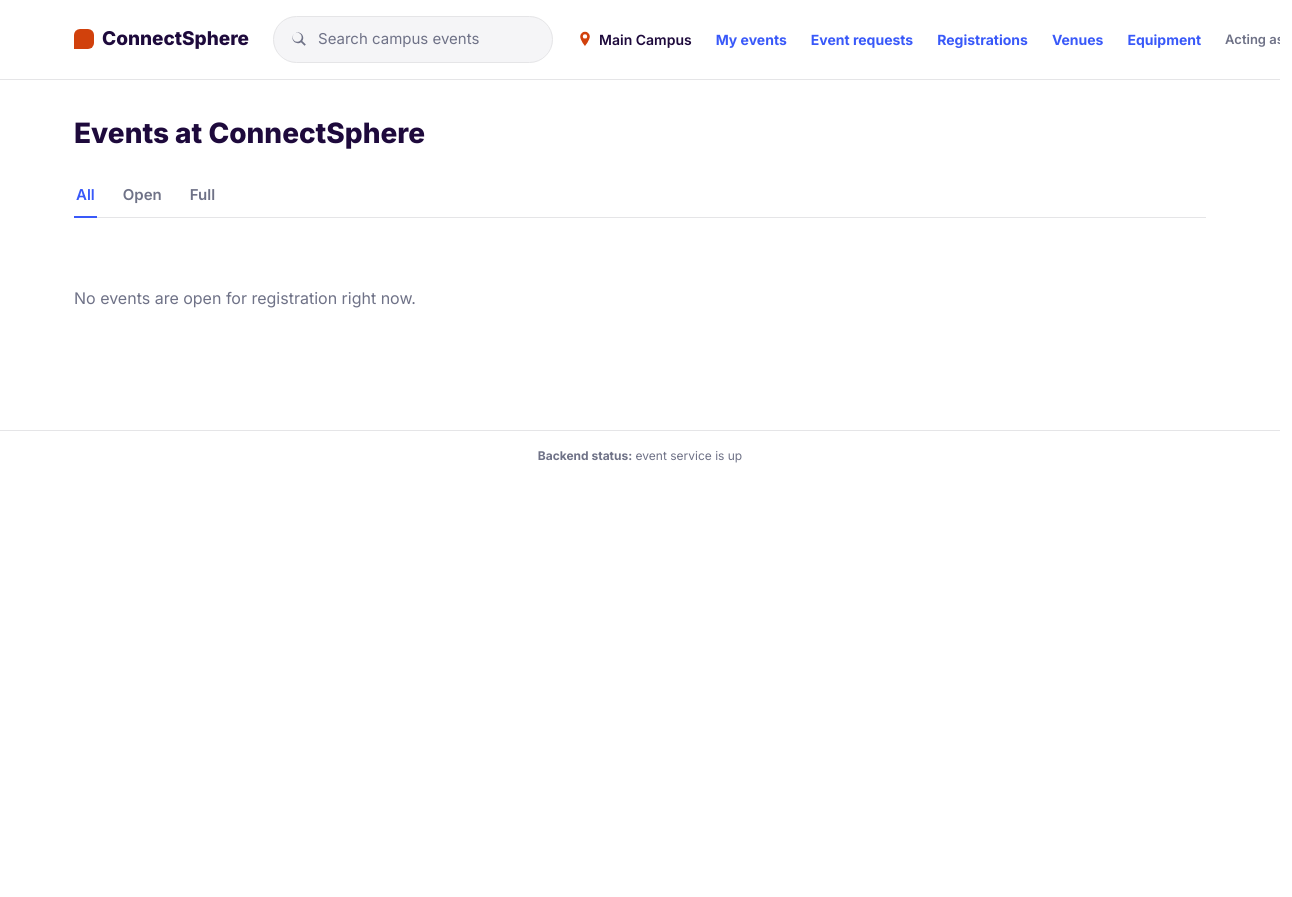
Test: organiser: event requests (US1) › adds and removes preferred dates as chips
The image size is (1292, 897).
Click the button "Event requests": coordinates (862, 39) [811,29,913,50]
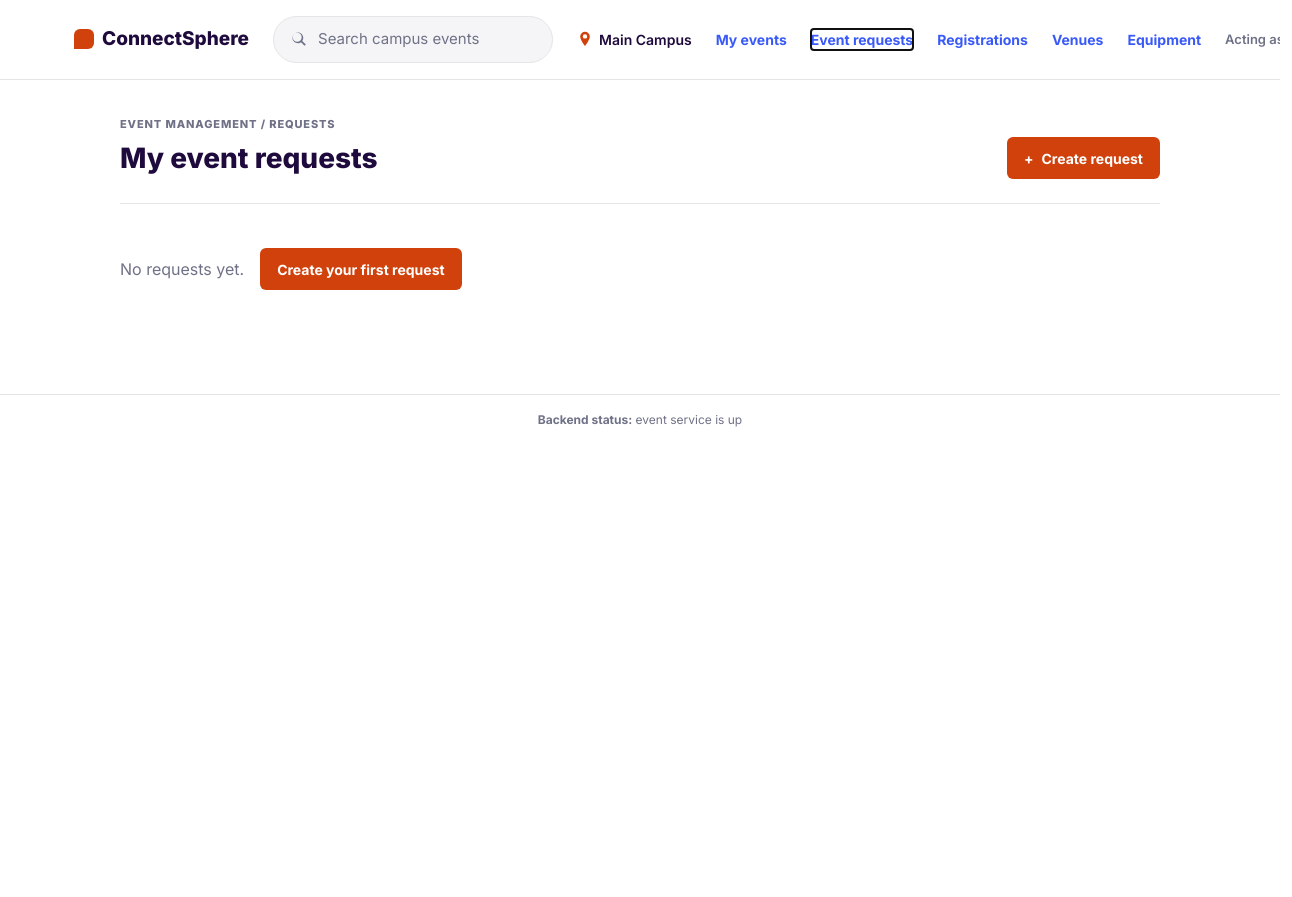
Click the button "+ Create request": coordinates (1084, 158) [1007,137,1160,179]
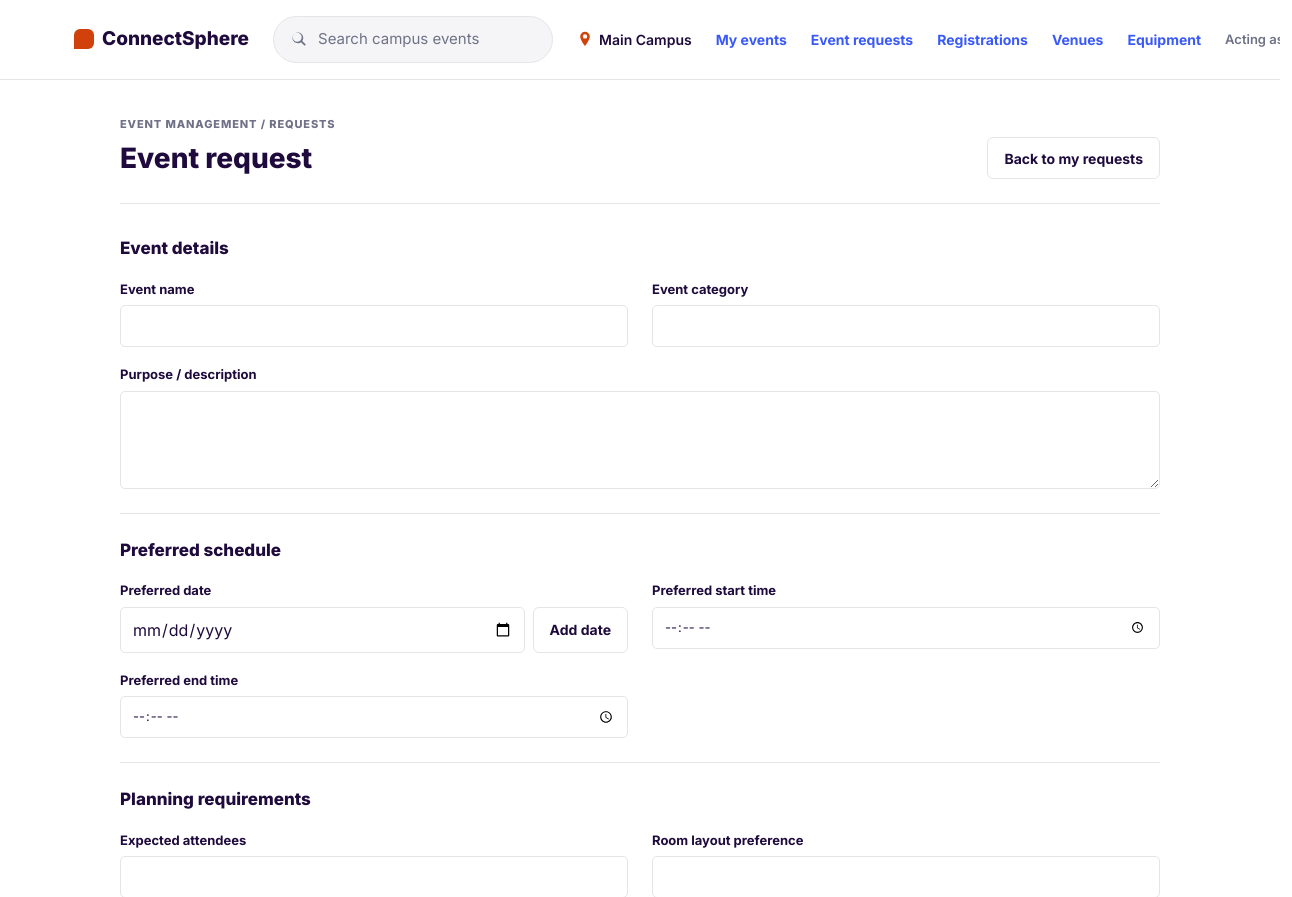
In the date field labelled "Preferred date": coordinates (322, 630) [120,606,525,652], type "2026-11-20"
Click the button "Add date": coordinates (580, 630) [533,606,628,652]
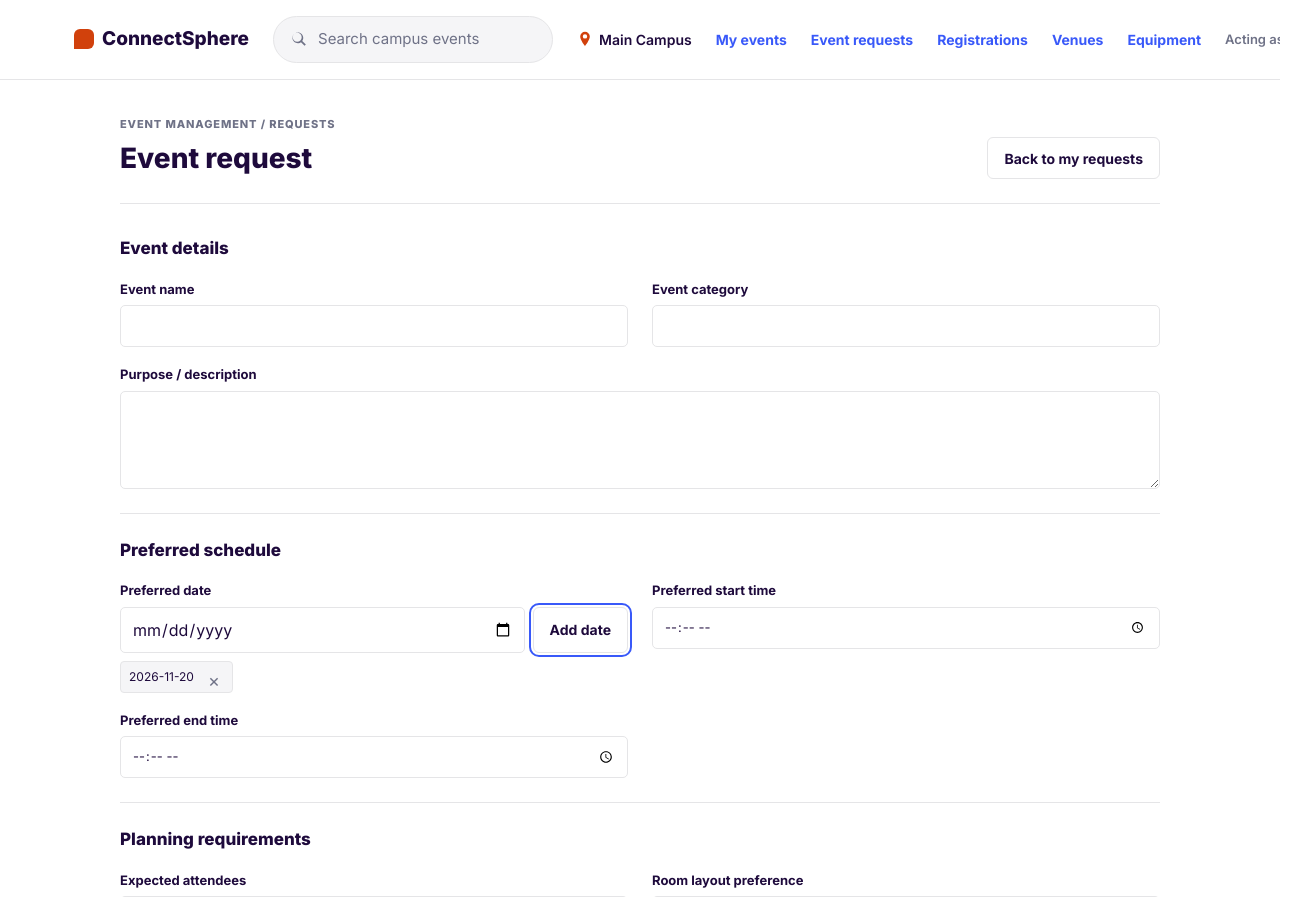
In the date field labelled "Preferred date": coordinates (322, 630) [120,606,525,652], type "2026-11-21"
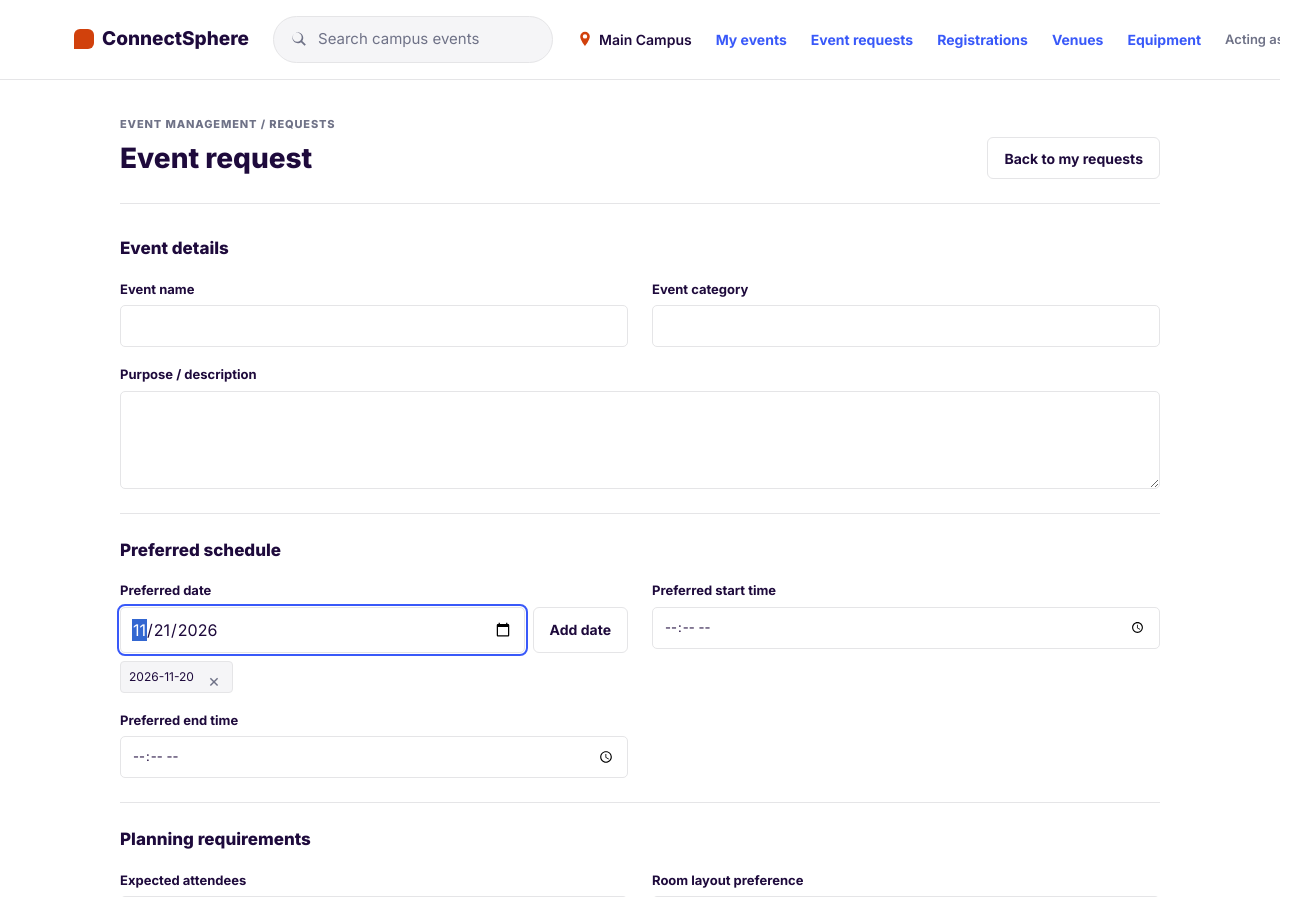
Click the button "Add date": coordinates (580, 630) [533,606,628,652]
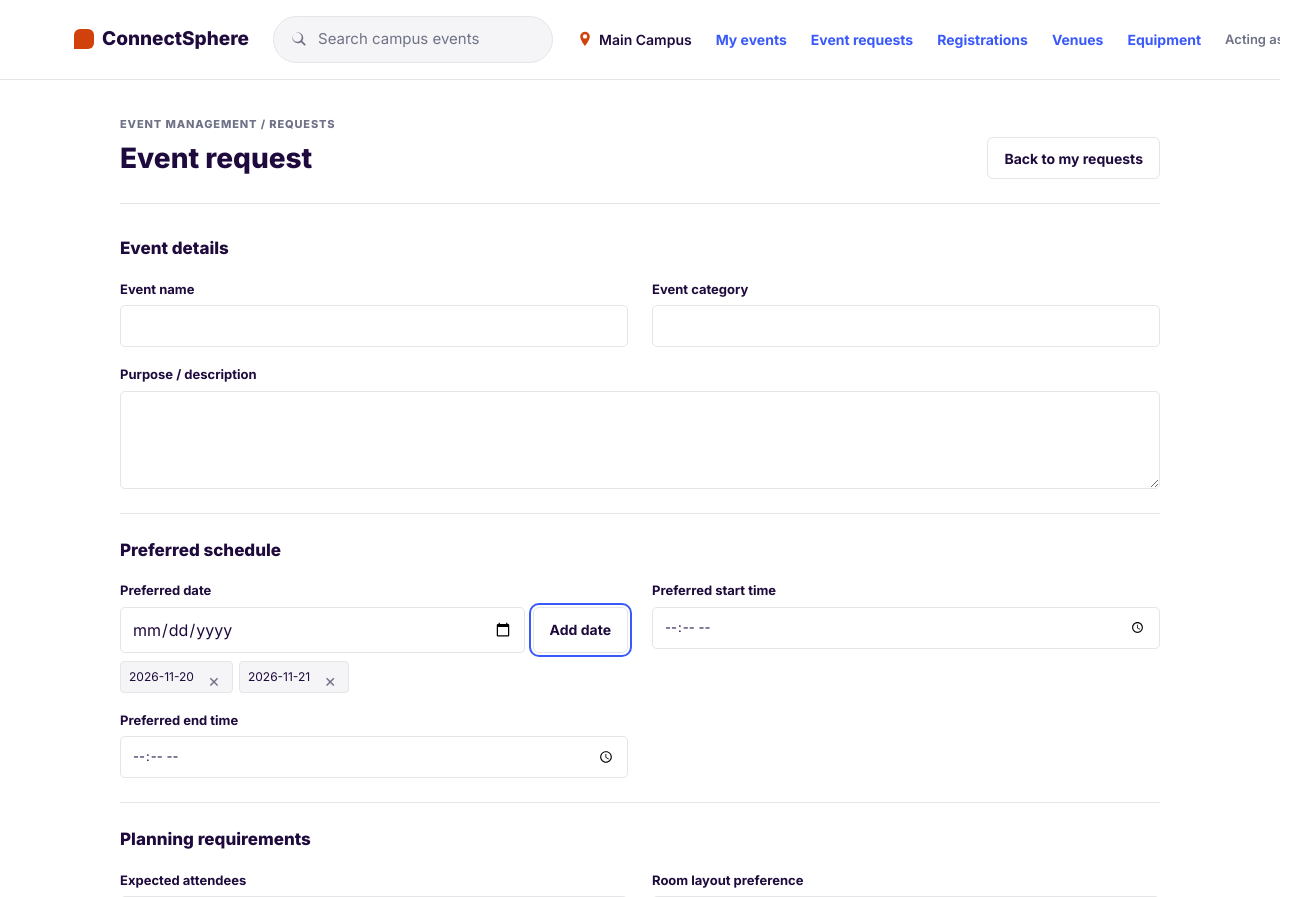
Click the button named "Remove 2026-11-20": coordinates (213, 676) [202,666,224,688]
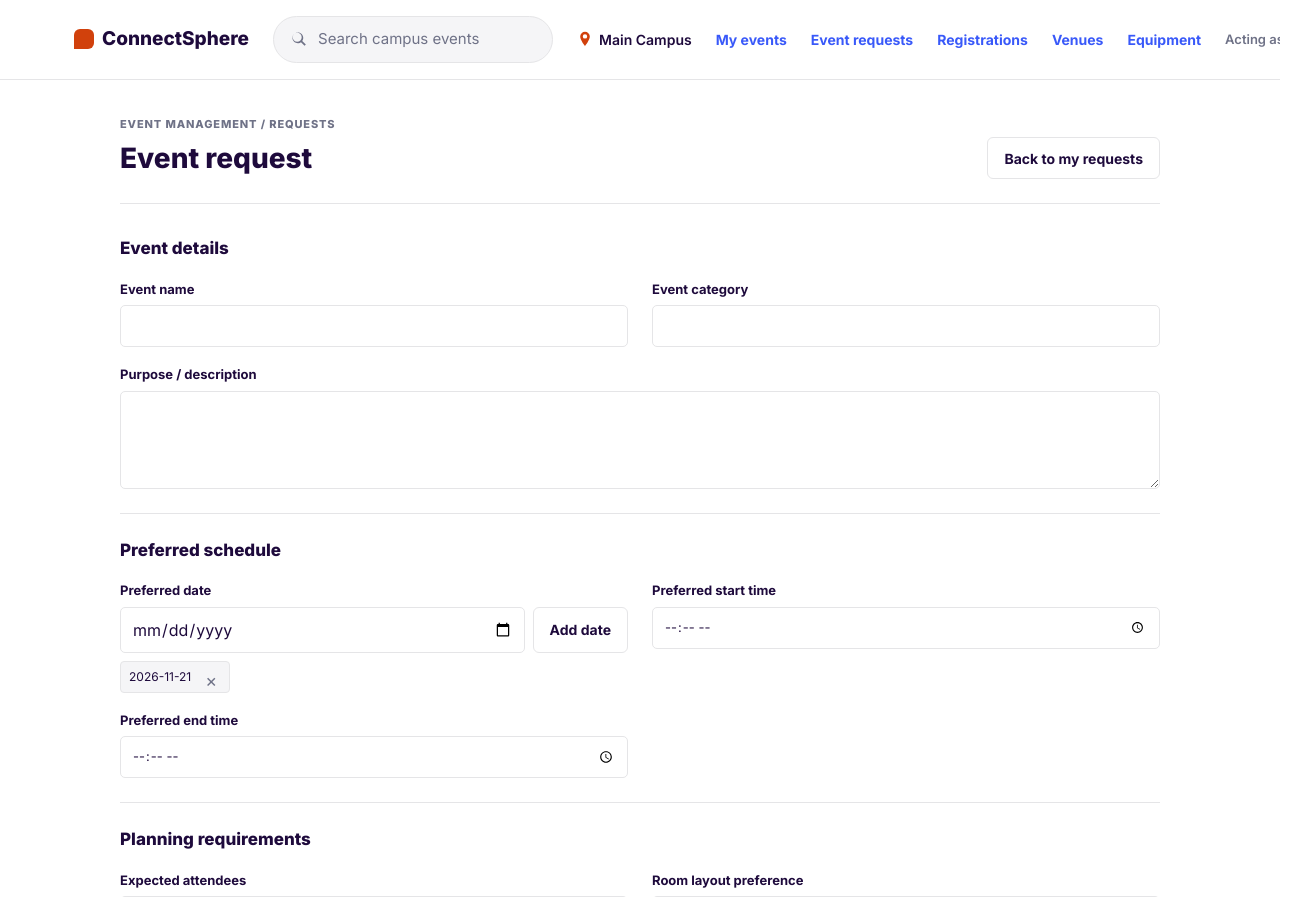
Check: the number of list items is 1, box [120,660,230,692]
